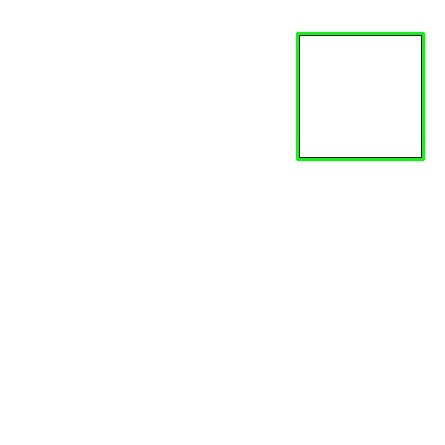line_segment: (296, 32, 425, 161)
